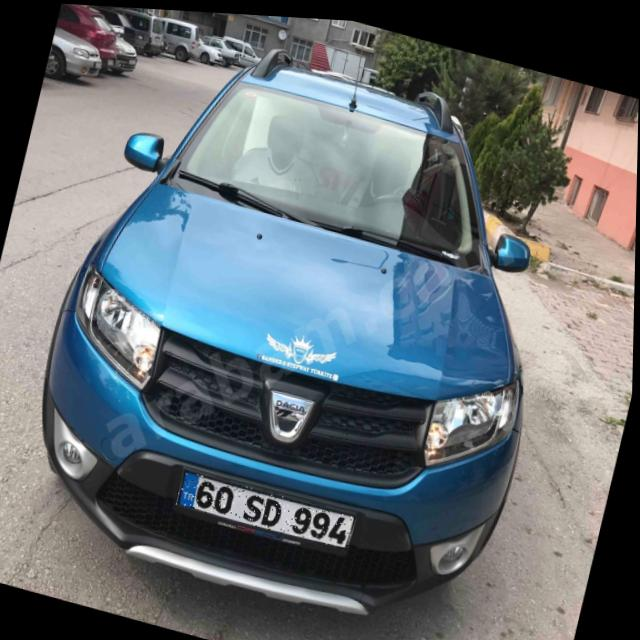license_plate: (177, 466, 358, 547)
